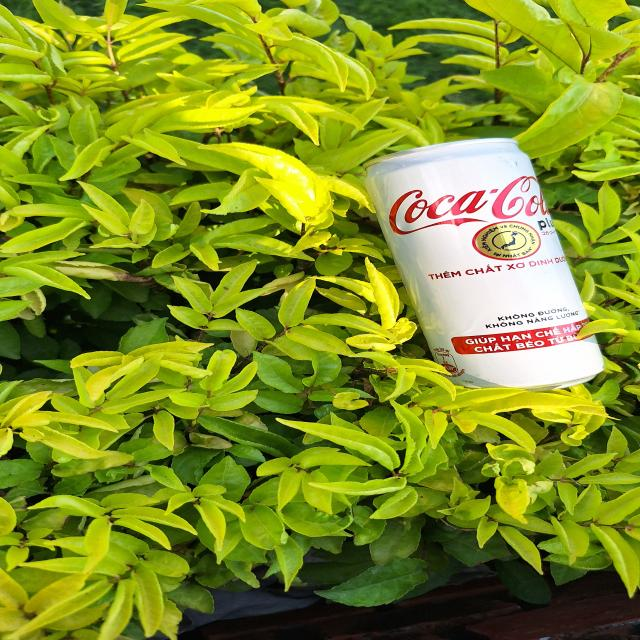Coca Cola Plus: (371, 130, 609, 388)
